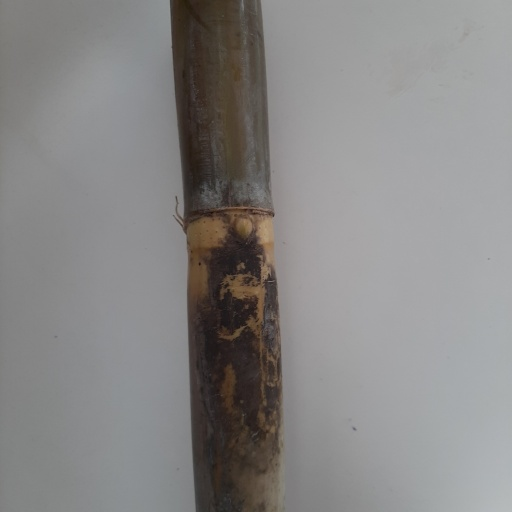Bud: (232, 215, 256, 245)
